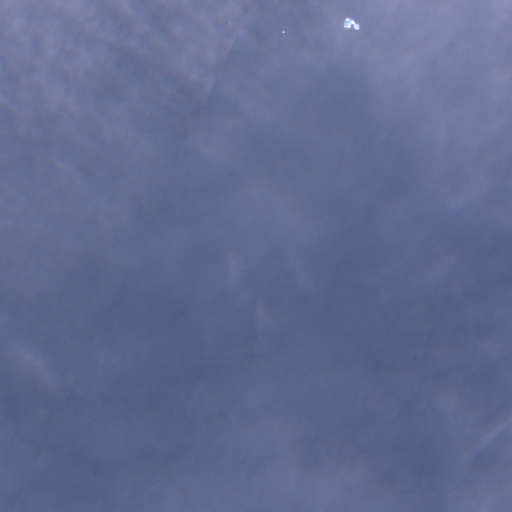Iceberg: (344, 18, 359, 29), (282, 30, 284, 32)
